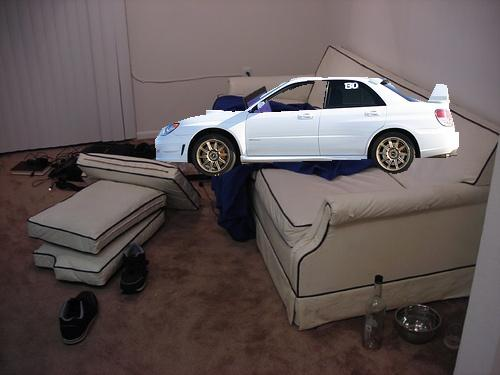tampered: (156, 78, 459, 176)
